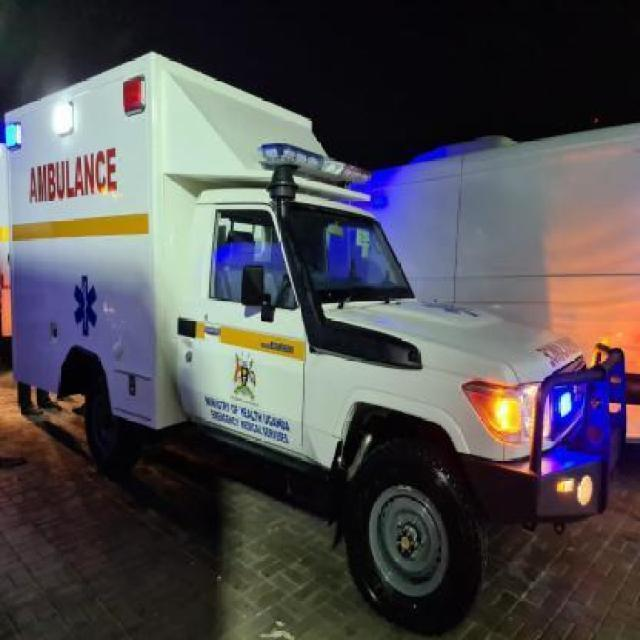emergency: (0, 49, 628, 635)
